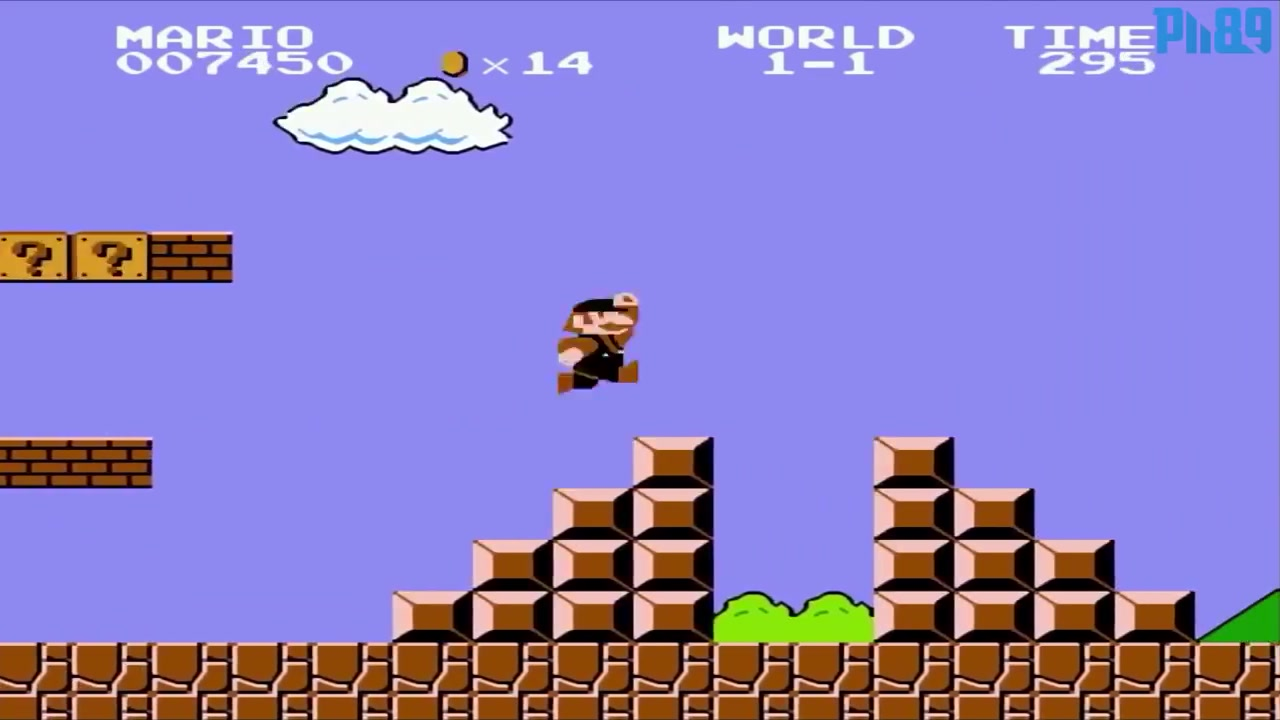mario: (547, 273, 655, 401)
